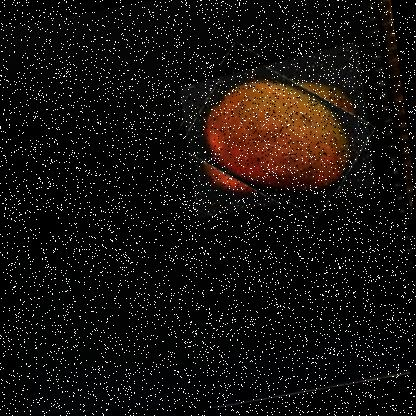mango: (174, 42, 377, 220)
